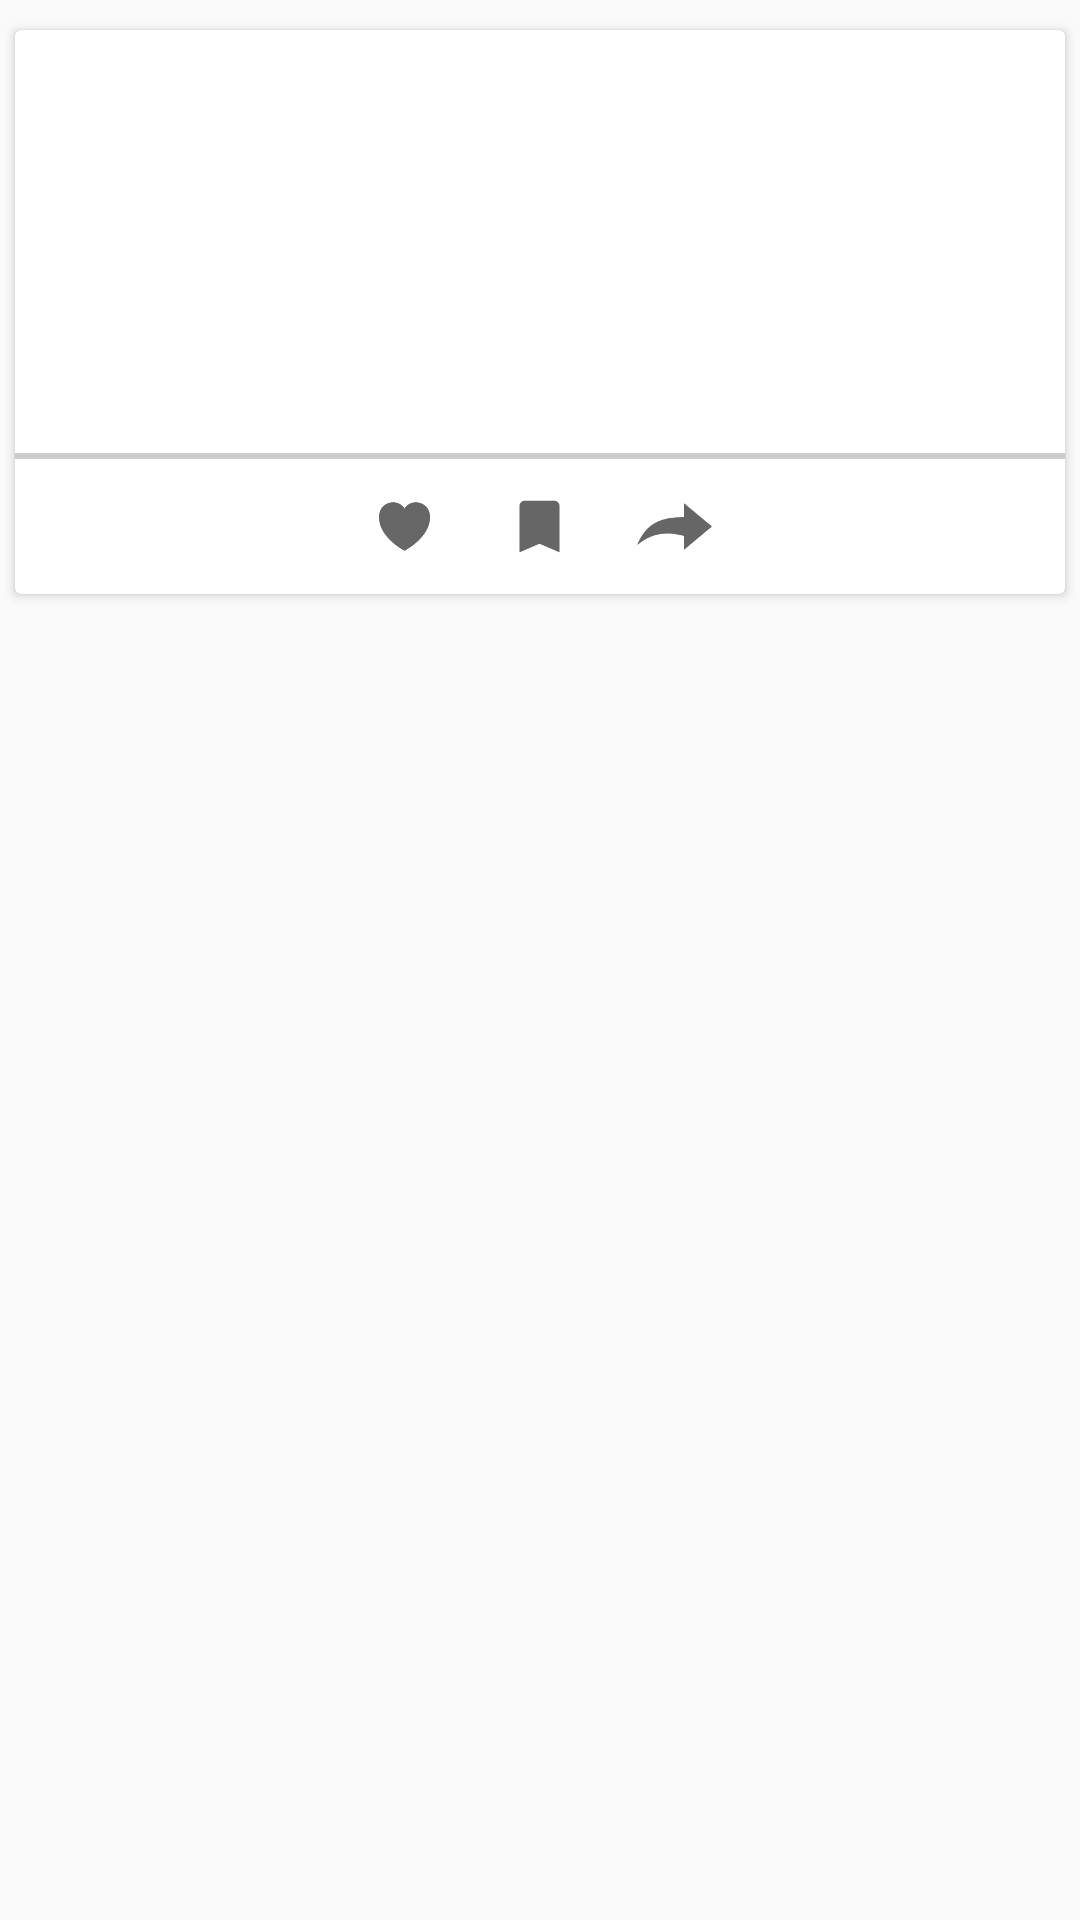

Icons on this 1080 x 1920 Android screen, each with its box as {"left": x1, "top": y1, "right": x2, "bottom": y2}:
bookmark: {"left": 519, "top": 500, "right": 560, "bottom": 552}
